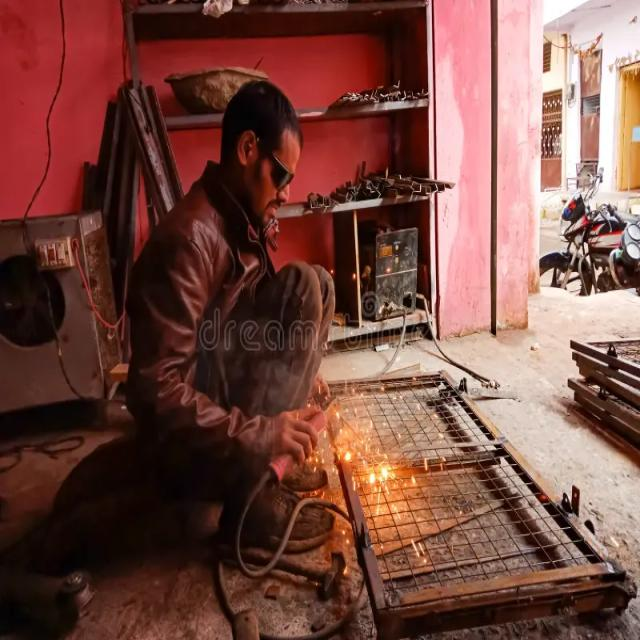without_helmet: (212, 64, 334, 258)
